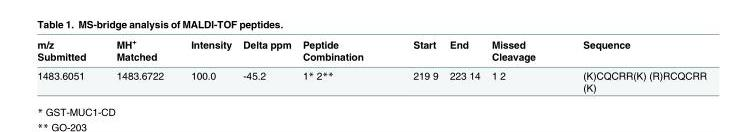table: (36, 36, 706, 92)
table column: (558, 36, 706, 92), (296, 36, 387, 92), (100, 36, 176, 92), (485, 36, 558, 92), (36, 36, 100, 92), (176, 36, 236, 92), (236, 36, 296, 92), (387, 36, 443, 92), (443, 36, 485, 92)
table column header: (36, 36, 706, 65)
table row: (36, 36, 706, 65), (36, 65, 706, 92)
